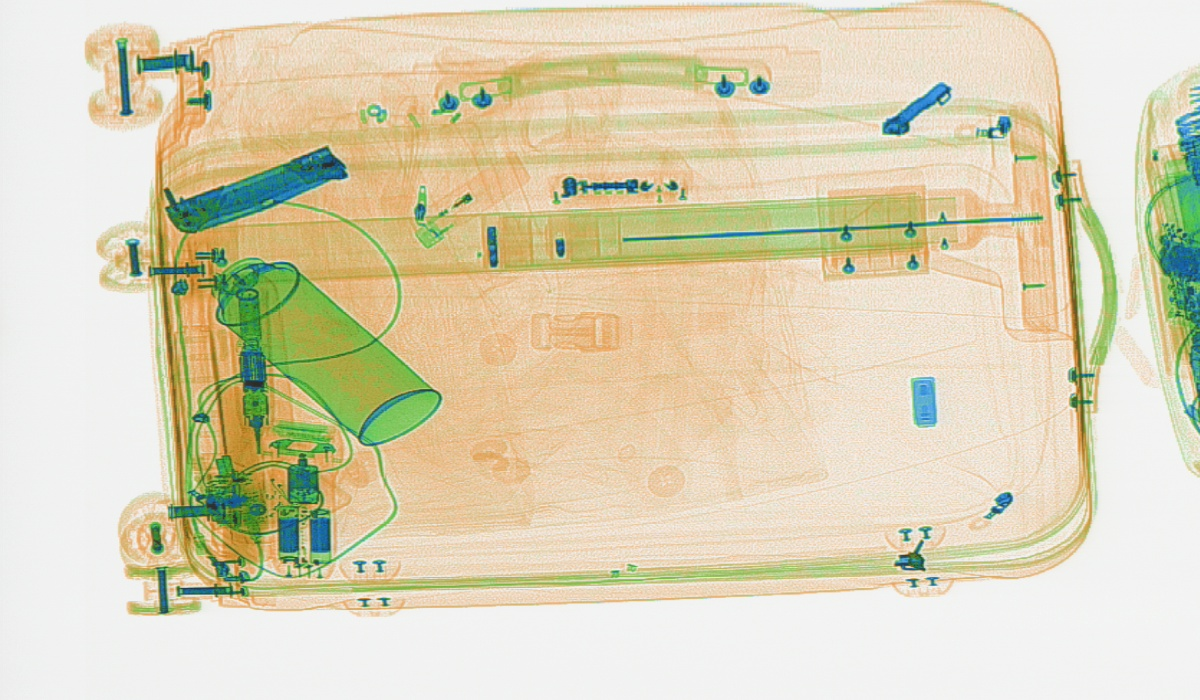knife: (156, 140, 351, 233)
lighter: (409, 146, 531, 252)
pressure: (208, 252, 444, 448)
